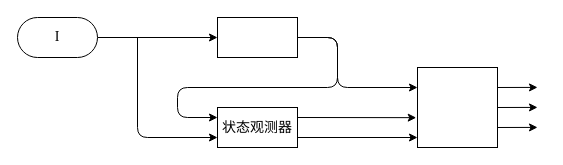
The diagram is 563 pixels wide and 165 high, and some of its shapes have lost their labels. The centre of each missing label's shape, as x and y in pixels:
"原系统" goes at (257,37).
"状态重构器" goes at (457,107).
